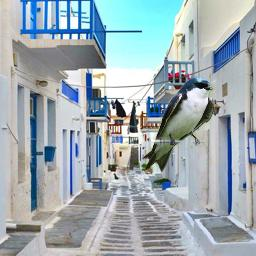Swallow: (141, 76, 215, 172)
